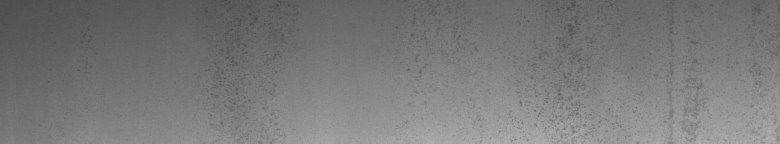ib: (518, 4, 604, 136)
